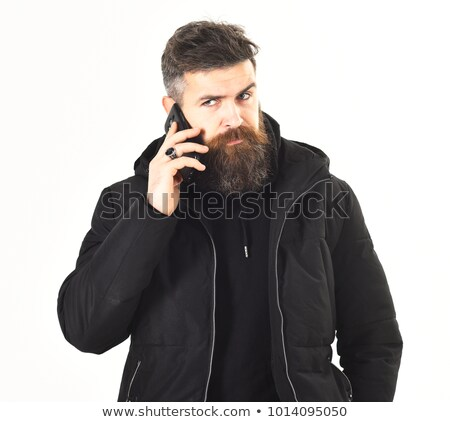phone: (160, 109, 215, 194)
talk: (146, 74, 266, 208)
